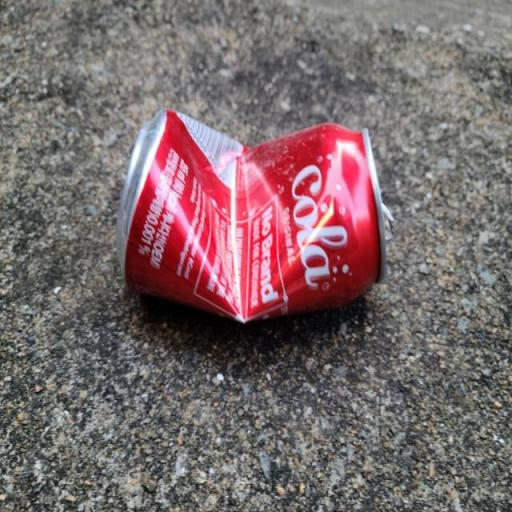metal: (82, 67, 420, 361)
